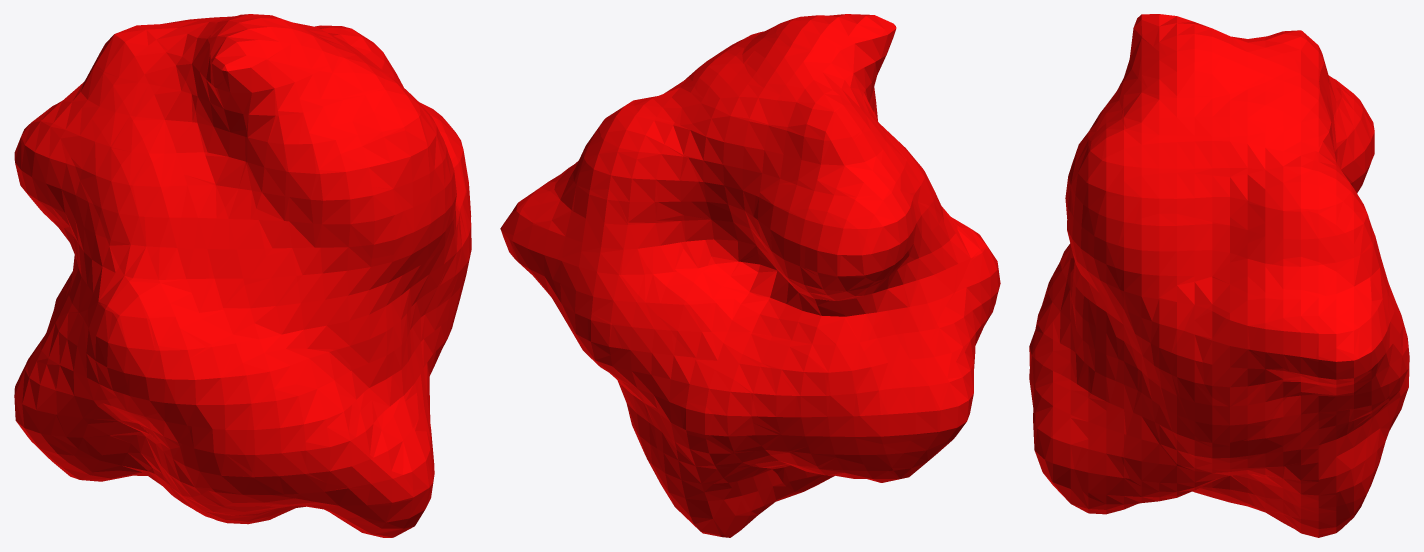
The model's file is yhcH_coarse.dae.
3 views of the same model, side by side, from view 1: azimuth 30°, elevation 25°; view 2: azimuth 150°, elevation 25°; view 3: azimuth 270°, elevation 25° (orthographic). The views are drawn at different scales.
Parts seen in each view (by area): view 1: yhcH; view 2: yhcH; view 3: yhcH.
Boxes of the visible parts, bbox=[...] form: yhcH: bbox=[14, 14, 471, 537]; yhcH: bbox=[500, 14, 1000, 537]; yhcH: bbox=[1029, 14, 1409, 537].
Size of the model in its own units: 45.66 by 49.91 by 35.27.
